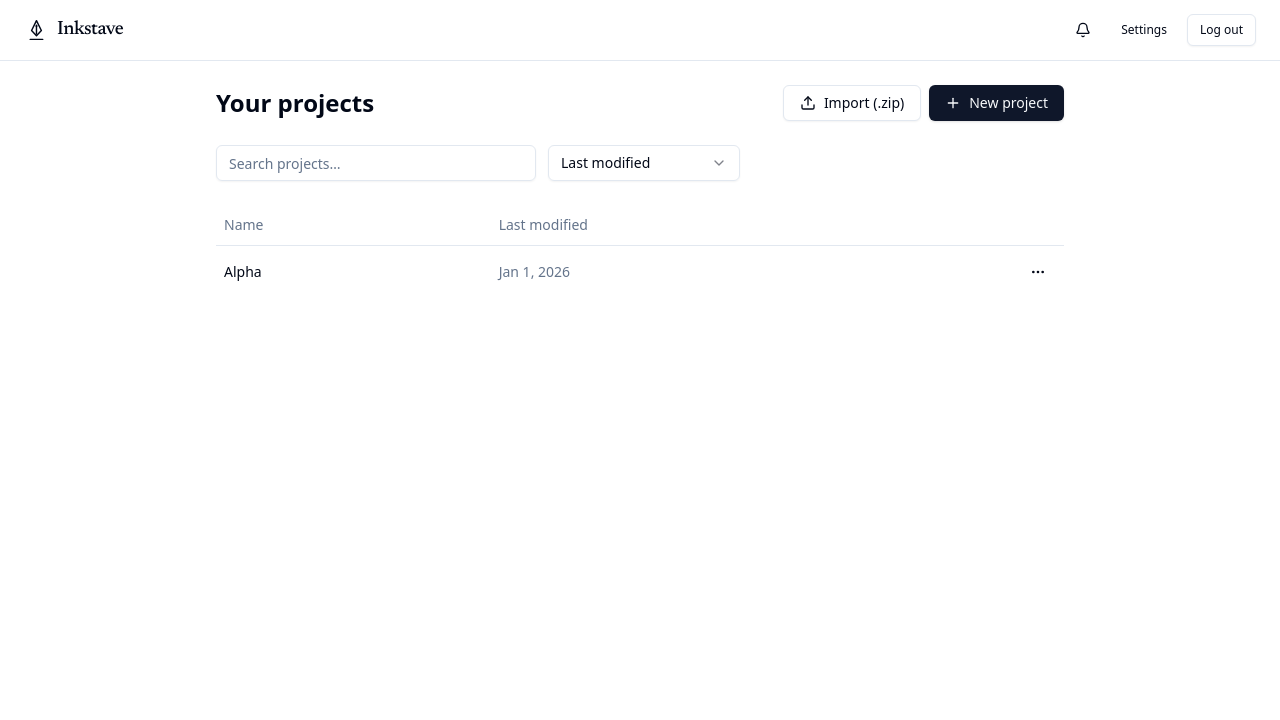
Test: ProjectsPage › creates a project and shows it in the list
This screenshot has width=1280, height=720.
Expected: the link "Alpha" is shown, [224,262,262,280]
Click the button "New project" at (997, 103), box [929,85,1064,121]
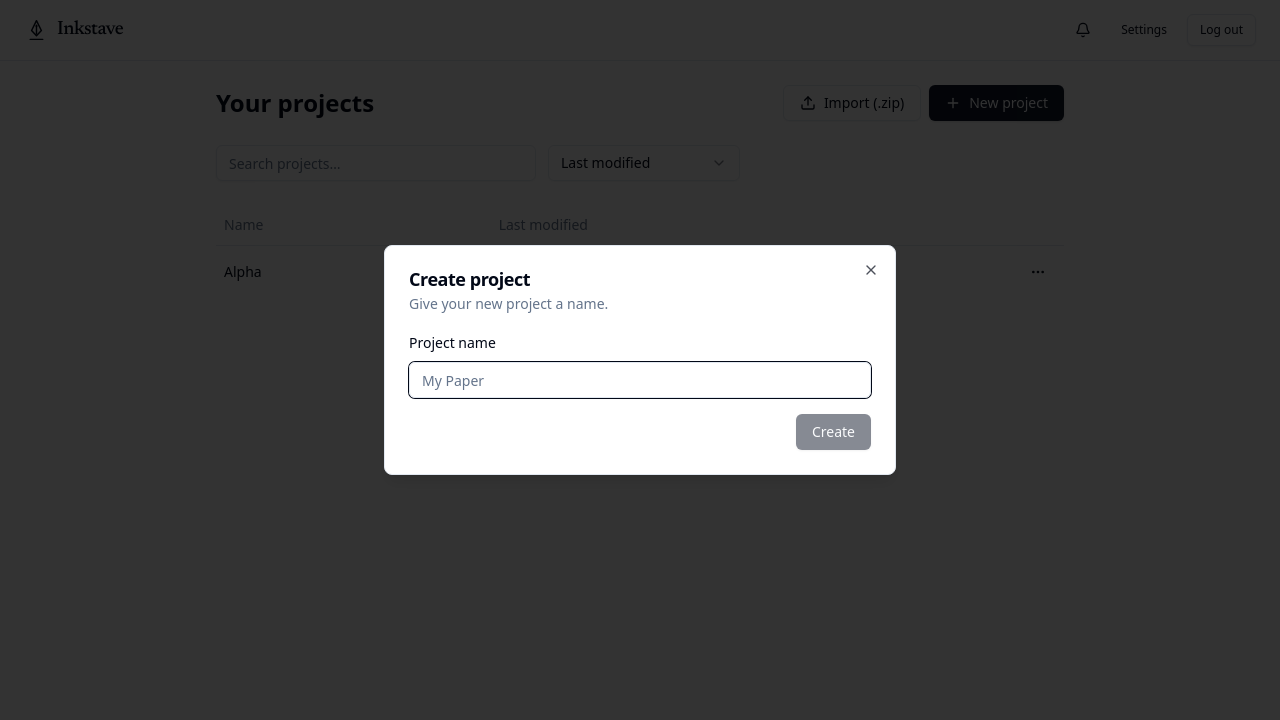
Type "Gamma" into the field labelled "Project name" at (640, 380), box [409,362,871,398]
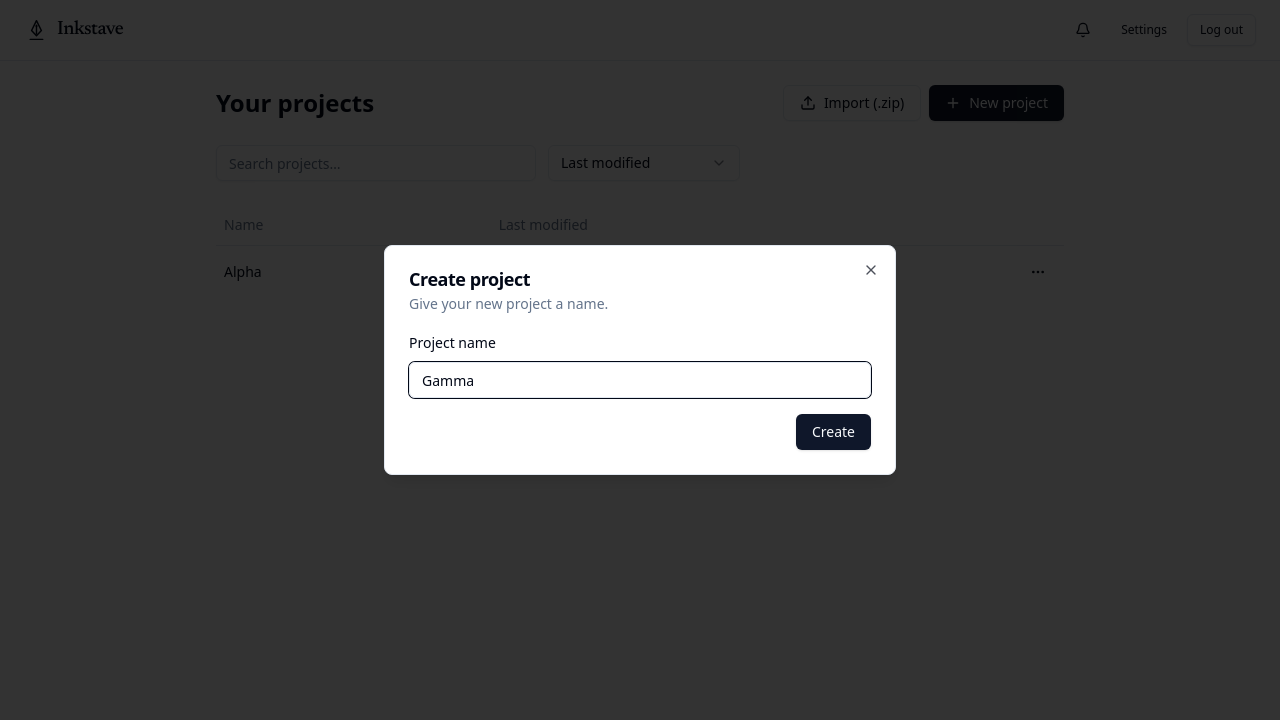
Click the button "Create" at (833, 432), box [796,414,871,450]
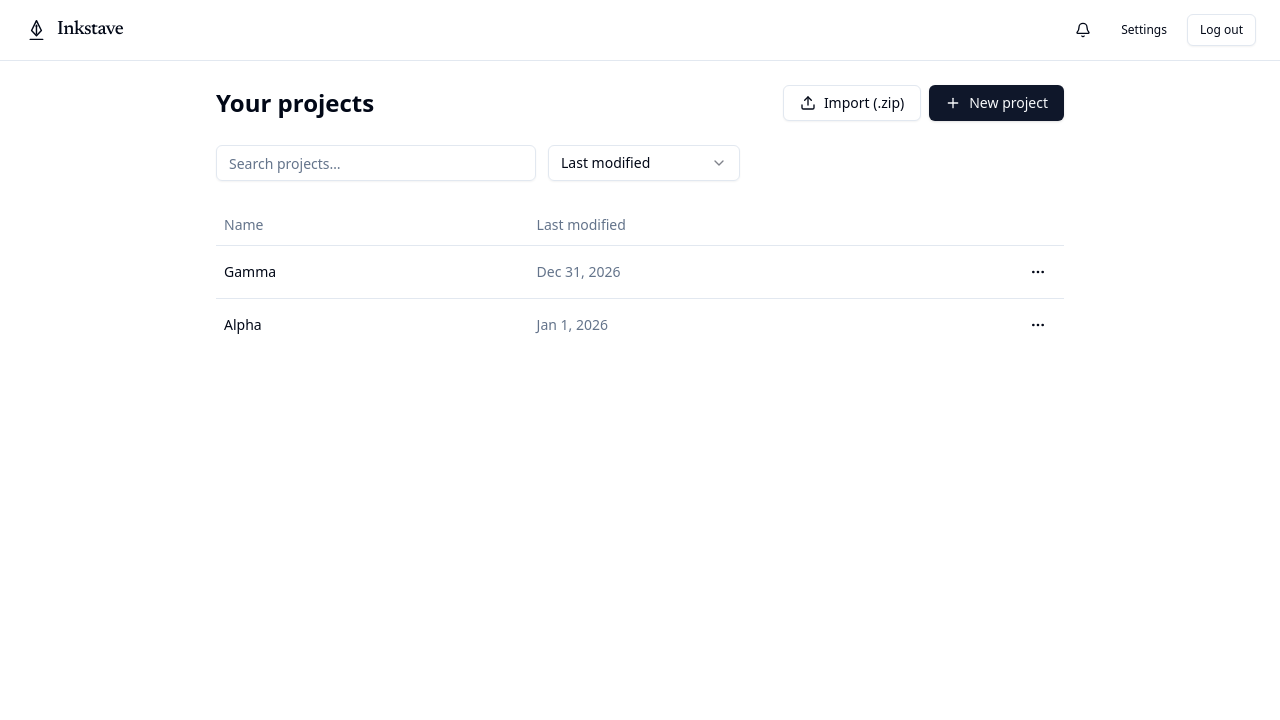
Expected: the link "Gamma" is shown, [224,262,276,280]
